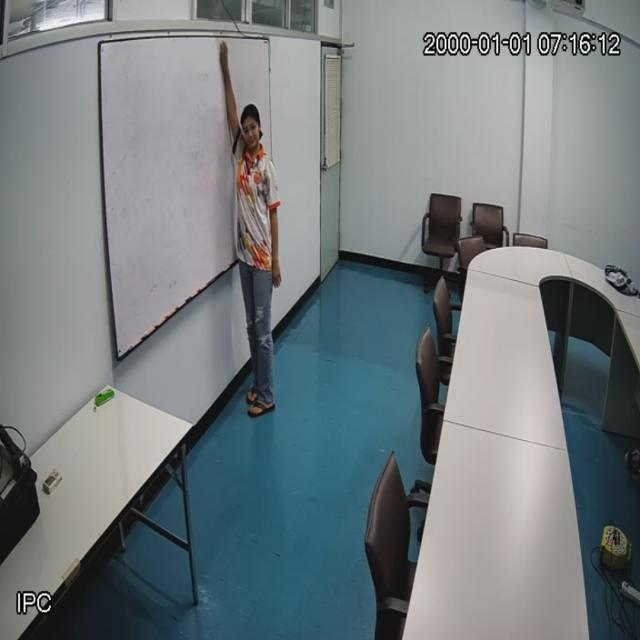normal: (231, 103, 282, 417)
